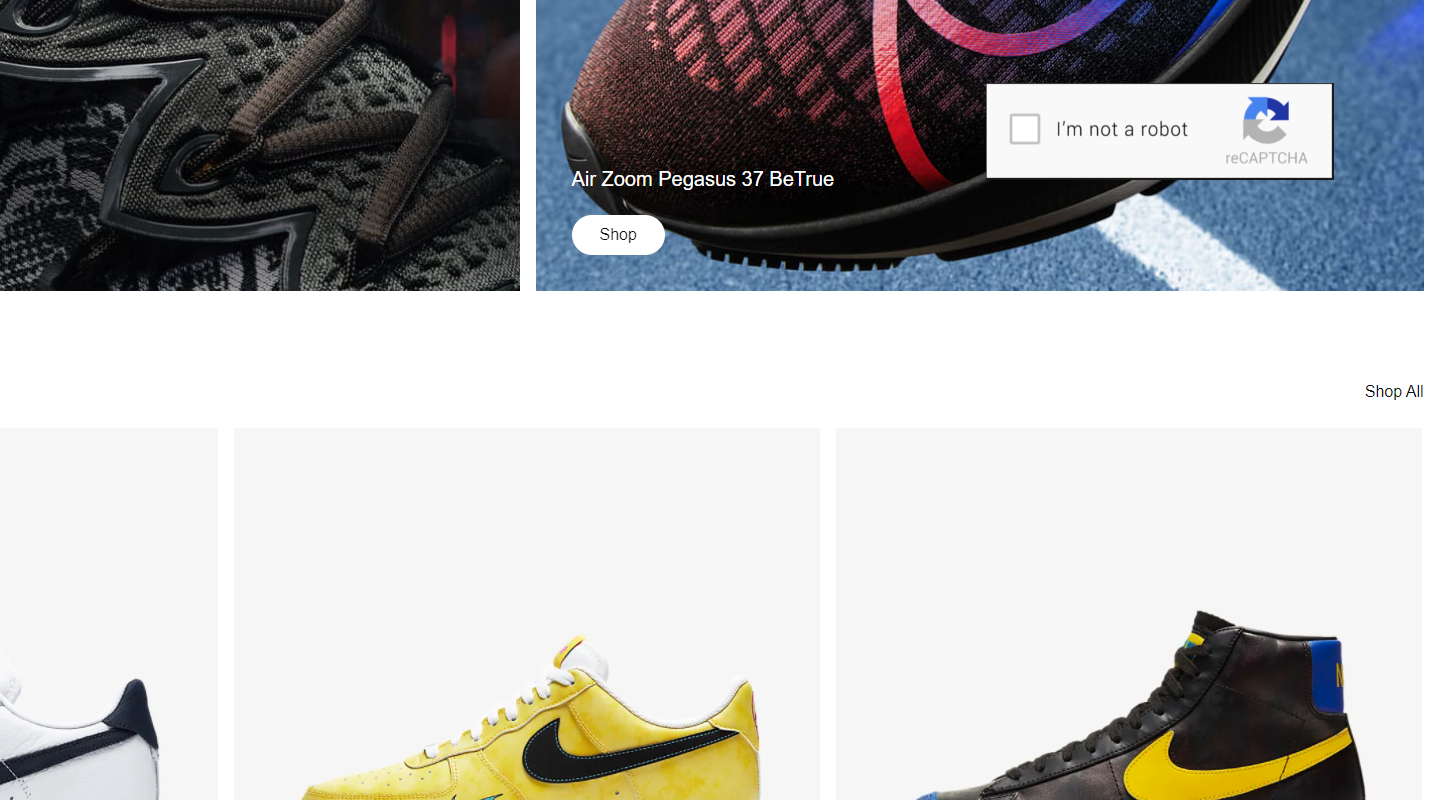captcha: (978, 76, 1351, 193)
